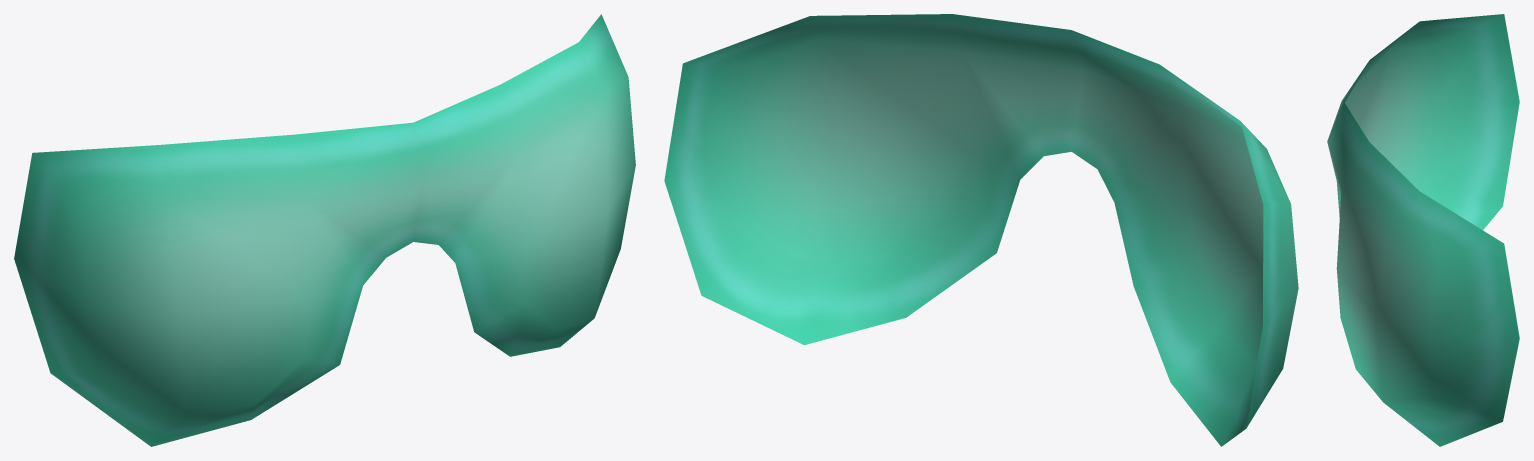
The picture shows the model from 3 angles, left to right: view 1: azimuth 30°, elevation 25°; view 2: azimuth 150°, elevation 25°; view 3: azimuth 270°, elevation 25°; orthographic projection. The views are drawn at different scales.
Parts seen in each view (by area): view 1: 3_A_33; view 2: 3_A_33; view 3: 3_A_33.
Boxes of the visible parts, <box> form: 3_A_33: <box>14,14,635,446</box>; 3_A_33: <box>664,14,1298,446</box>; 3_A_33: <box>1327,14,1519,446</box>.
Size of the model in its own units: 32.44 by 11.16 by 16.84.
